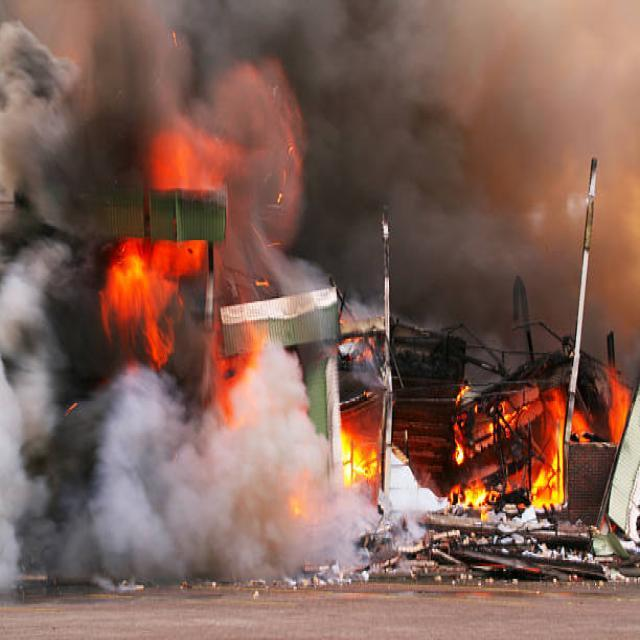Fire: (98, 234, 204, 374), (453, 386, 561, 520), (148, 114, 250, 194), (343, 410, 383, 508)
Smoke: (271, 0, 638, 329), (115, 370, 431, 584), (0, 260, 163, 564)
